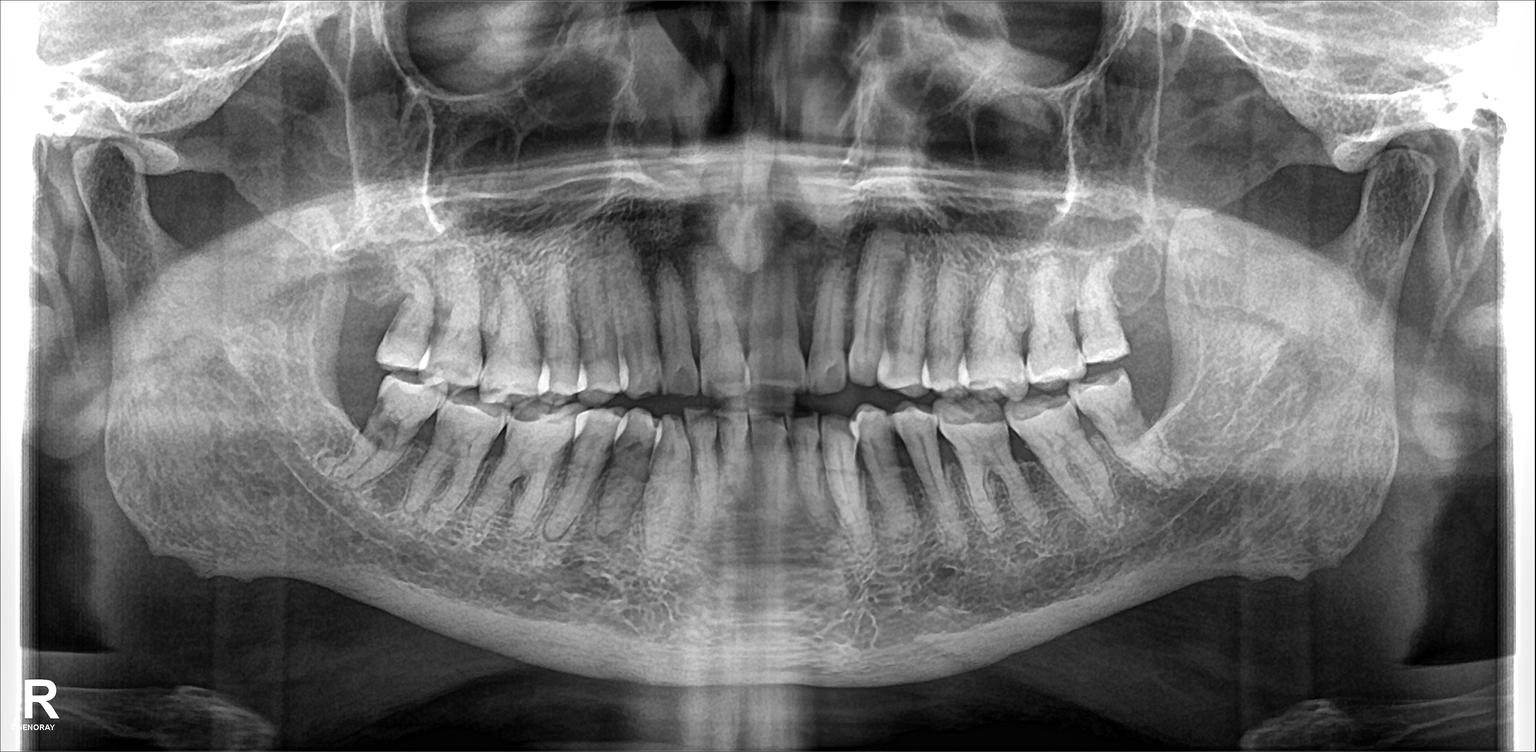Missing Tooth: (345, 244, 390, 355), (333, 367, 381, 445), (1121, 248, 1156, 322), (1140, 357, 1171, 425)
